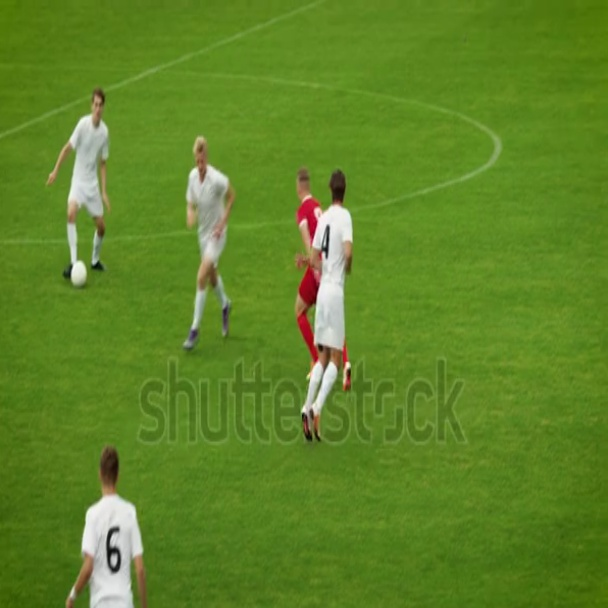ball: (71, 259, 88, 288)
